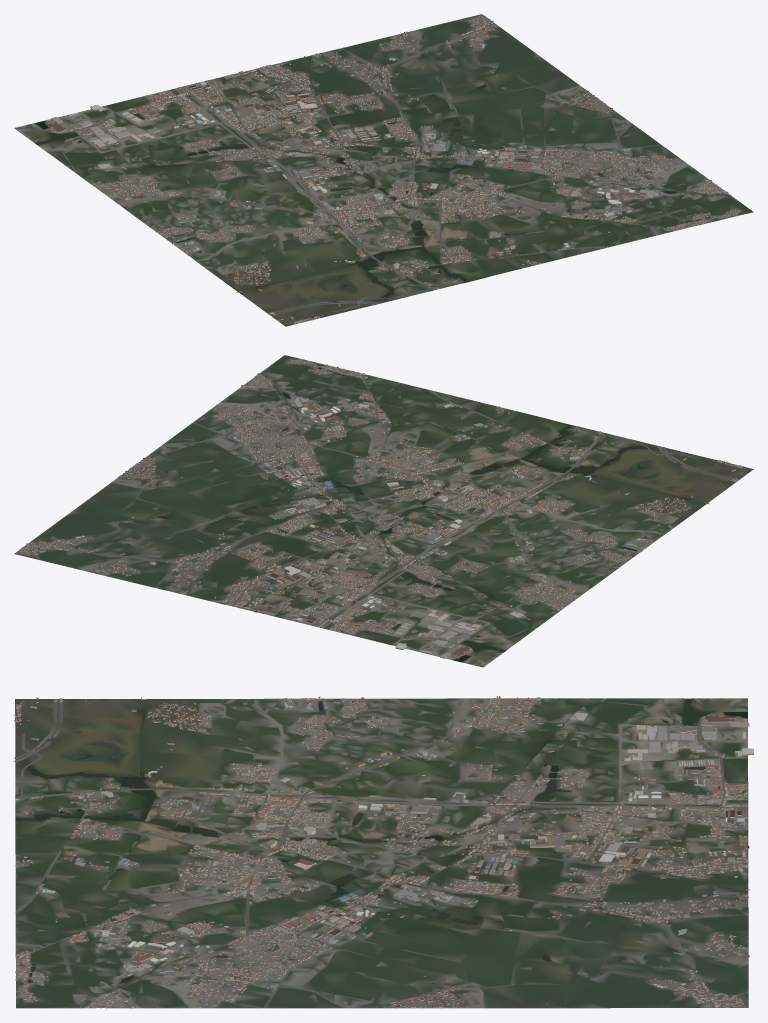
3 views of the same model, one above another, from view 1: azimuth 30°, elevation 25°; view 2: azimuth 150°, elevation 25°; view 3: azimuth 270°, elevation 25° (orthographic). The views are drawn at different scales.
Visible parts, largest first — view 1: ground, buildings, roads, water; view 2: ground, buildings, roads, water; view 3: ground, buildings, roads, water.
Boxes of the visible parts, x1,y1,x2,y2 form: ground: (14, 14, 753, 326); buildings: (44, 14, 740, 324); roads: (46, 19, 728, 324); water: (35, 53, 710, 297); ground: (14, 355, 753, 667); buildings: (16, 359, 746, 659); roads: (30, 374, 750, 644); water: (124, 367, 704, 662); ground: (15, 698, 748, 1008); buildings: (14, 696, 753, 1008); roads: (14, 698, 748, 1008); water: (15, 698, 747, 988).
Bounding box in the file's own units: 5629 × 41.82 × 5662.
